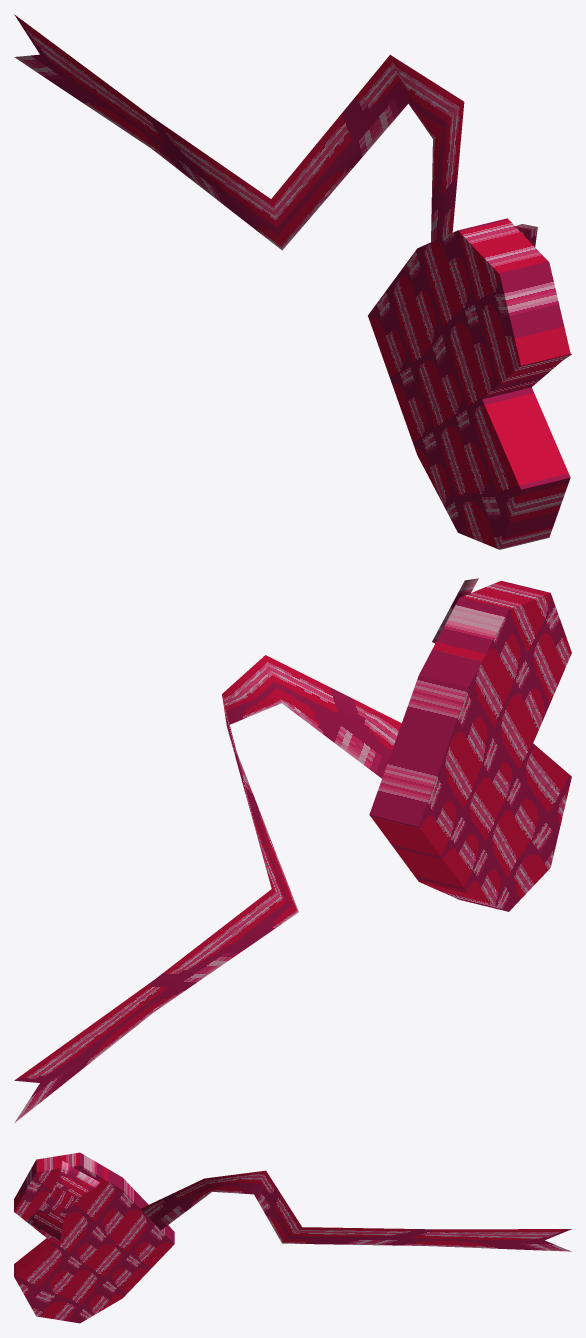
The model's file is 2722sbim03_15.gltf.
3 views of the same model, one above another, from view 1: azimuth 30°, elevation 25°; view 2: azimuth 150°, elevation 25°; view 3: azimuth 270°, elevation 25° (orthographic). The views are drawn at different scales.
Parts seen in each view (by area): view 1: 2722sbim03_15; view 2: 2722sbim03_15; view 3: 2722sbim03_15.
Part boxes in pixels (x1=…): 2722sbim03_15: x1=14, y1=14, x2=571, y2=549; 2722sbim03_15: x1=14, y1=578, x2=571, y2=1123; 2722sbim03_15: x1=14, y1=1152, x2=571, y2=1323.
Size of the model in its own units: 0.2603 by 0.6389 by 1.92.
1 material, 1 textured.
